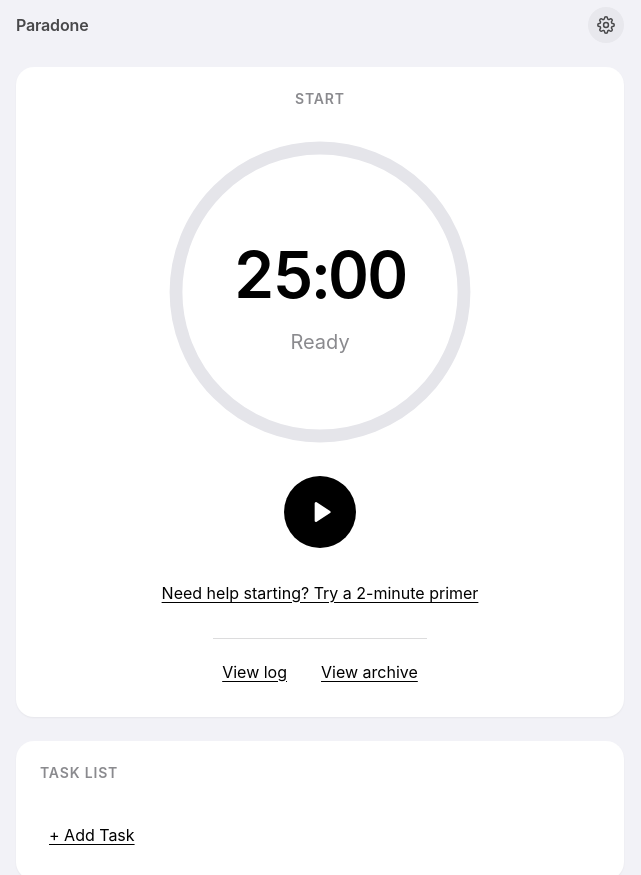
Test case: setup › clicking Start renders the Active section with a TimerDisplay
The width and height of the screenshot is (641, 875).
Click the button without text below "Ready" at (320, 512), box [284,476,356,548]
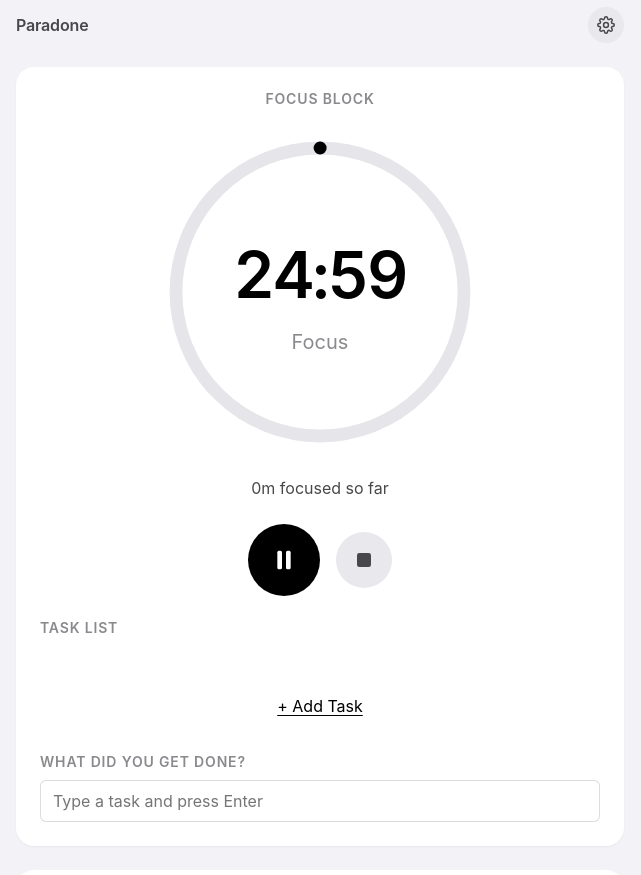
Expected: the element showing "24:59 Focus" is shown, [160,132,480,452]
Expected: the heading "Focus block" is shown, [265,91,375,108]
